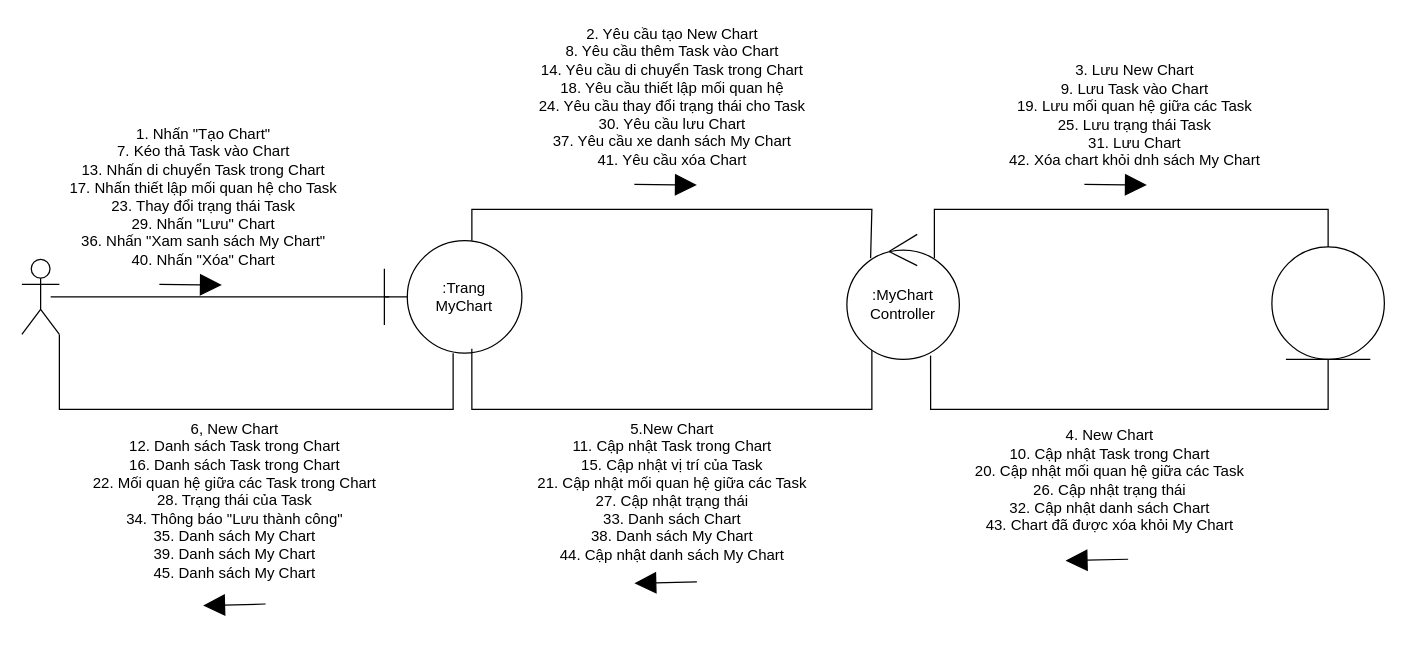
Some shapes in this 1406 by 649 pixel diagram are drawn without their labels. Each missing label, with the centre of its shape:
":ChartList" goes at pixel 1327 302.
"User" goes at pixel 40 296.
